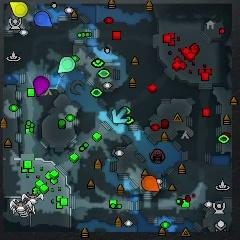p1: (34, 11, 53, 27)
p2: (57, 57, 76, 74)
p3: (33, 76, 49, 96)
p4: (10, 1, 28, 18)
p5: (142, 176, 160, 191)
x3: (111, 109, 128, 124)
